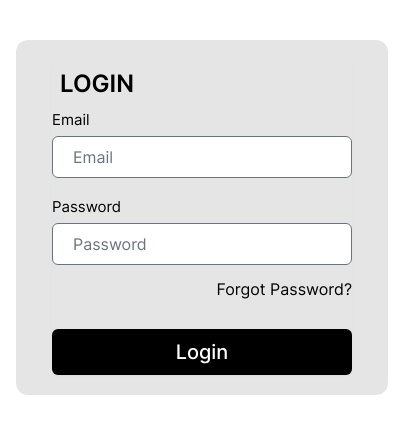
Test: Login Component › shows validation errors on empty submit
Click the button "Login".
click(202, 352)  # box [52,328,352,374]
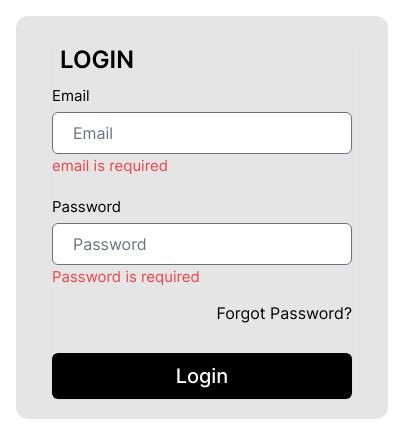
expect the text "email is required" is shown: met, box [52,156,168,174]
expect the text "Password is required" is shown: met, box [52,266,200,286]
